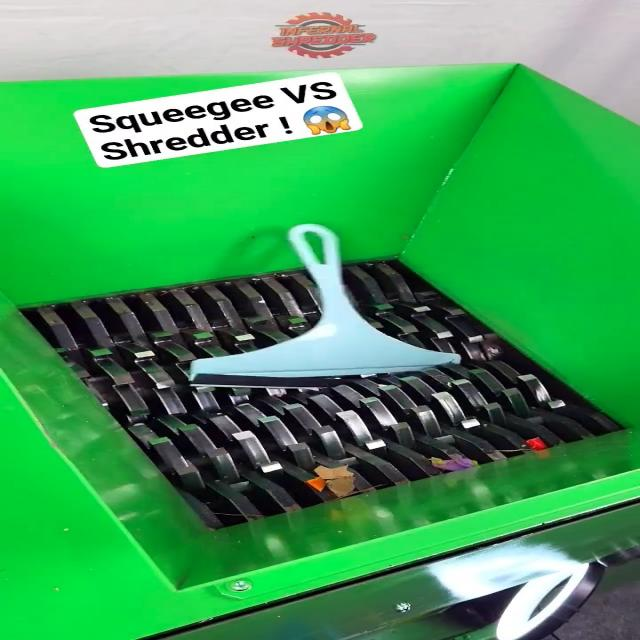Broyeur: (20, 242, 638, 558)
